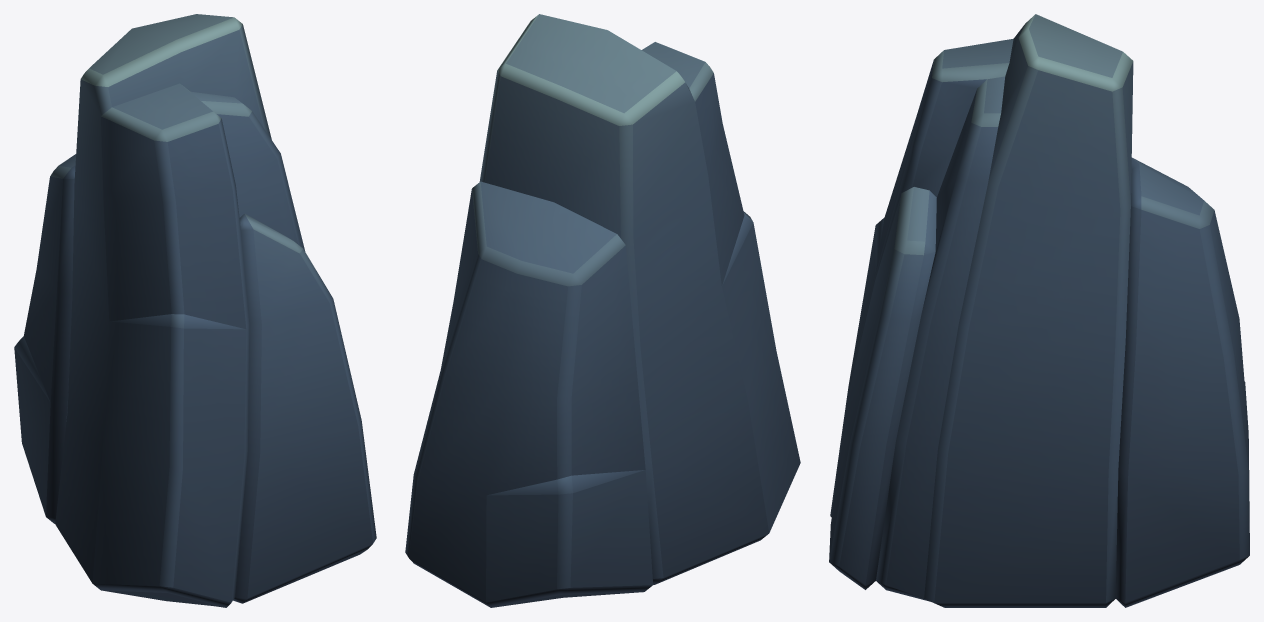
Rendered from rock_014.fbx.
3 renders of one model, left to right at view 1: azimuth 30°, elevation 25°; view 2: azimuth 150°, elevation 25°; view 3: azimuth 270°, elevation 25°, orthographic. The views are drawn at different scales.
Visible parts, largest first — view 1: rock_014; view 2: rock_014; view 3: rock_014.
Part boxes in pixels (x1,y1,x2,y2): rock_014: [14, 14, 376, 607]; rock_014: [405, 14, 800, 607]; rock_014: [829, 14, 1249, 607].
Bounding box in the file's own units: 229 × 474 × 328.
1 material, 1 textured.
